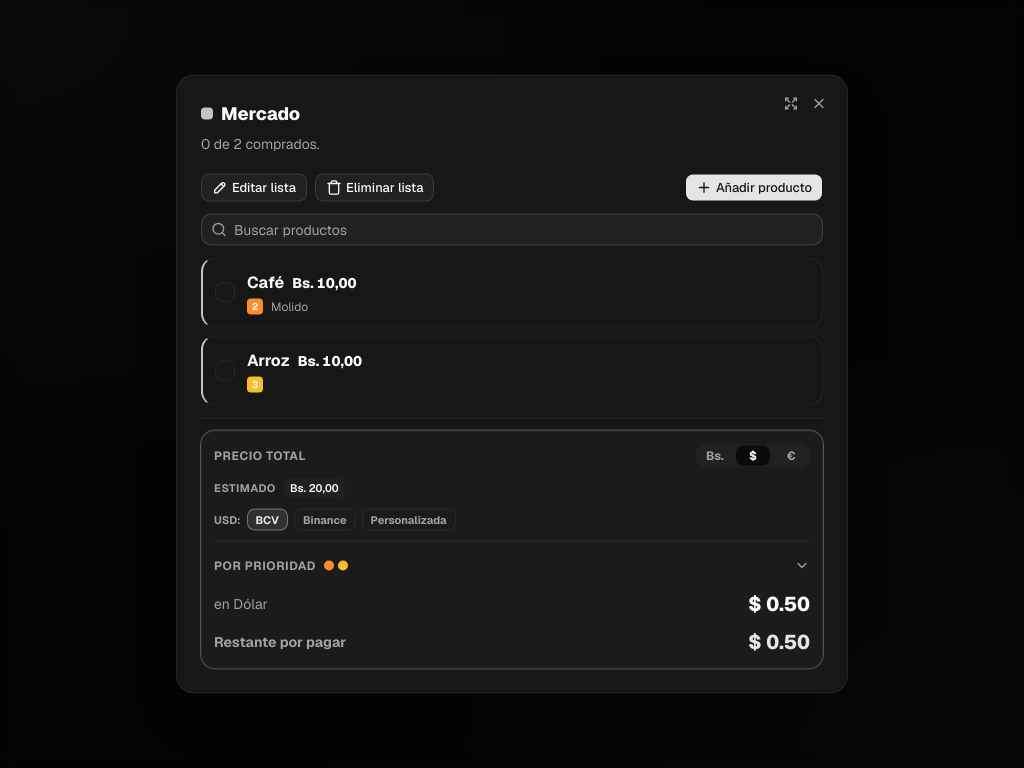
Test case: ShoppingListDetailDialog — buscador de productos › filtra por fragmento sin distinguir acentos
Type "cafe" into the search field labelled "Buscar productos" at (512, 230), box [201,214,823,246]
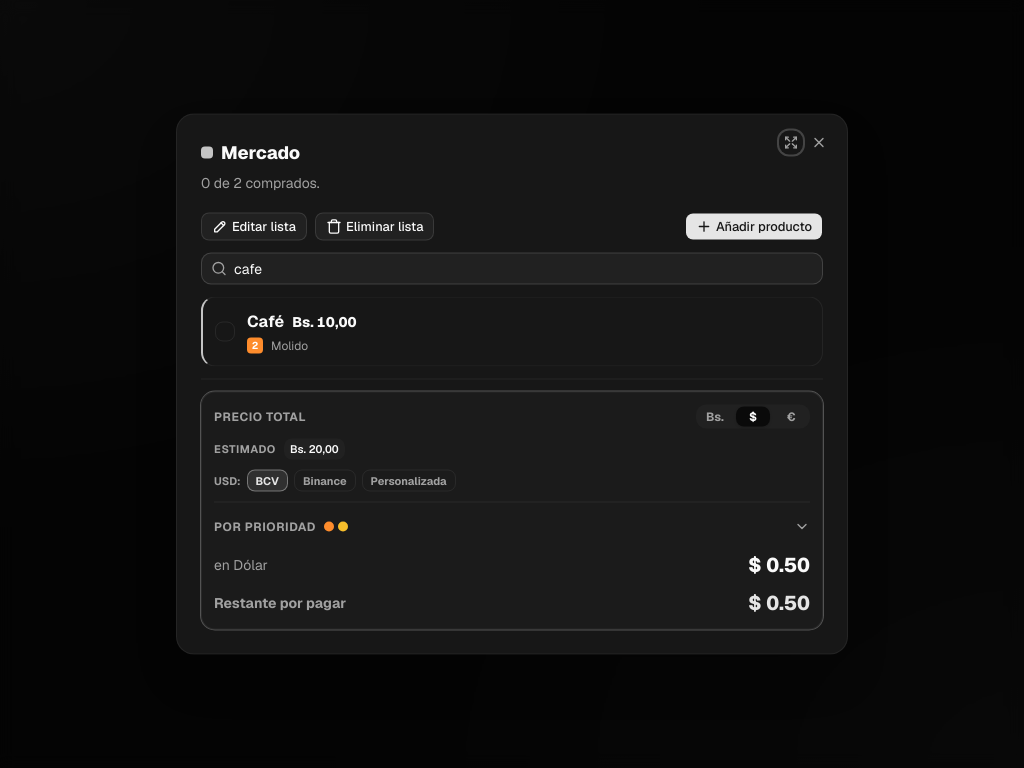
Expected: the text "Café" is shown, [247,310,284,334]
Now the button "Arroz" is gone
